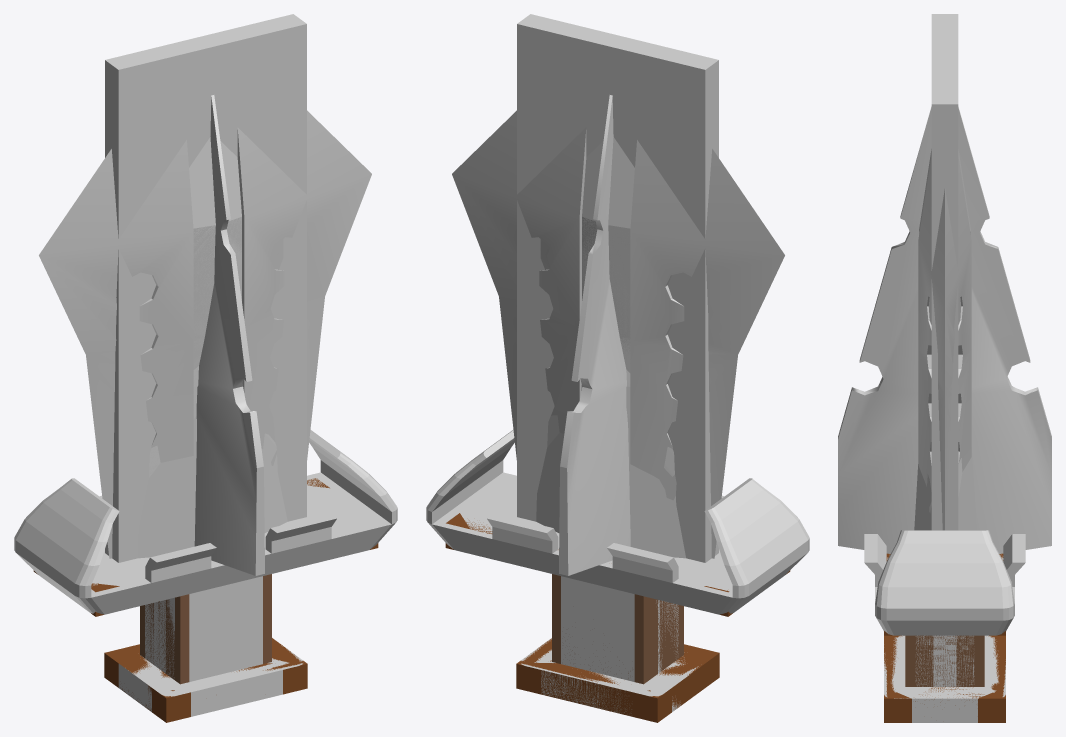
Rendered from sword_1.All.fbx.
3 renders of one model, left to right at view 1: azimuth 30°, elevation 25°; view 2: azimuth 150°, elevation 25°; view 3: azimuth 270°, elevation 25°, orthographic.
Parts seen in each view (by area): view 1: UC_3.2, UC_2.0_BASIC, UC_2.2, Kabza_4, Kabza_3, Kabza_2, Kabza_1, UC_2.0, UC_3.0, UC_3.1; view 2: UC_3.2, UC_2.0_BASIC, Kabza_4, UC_2.2, Kabza_1, Kabza_3, UC_2.0, UC_3.0, Kabza_2, UC_3.1; view 3: UC_2.2, Kabza_4, UC_3.2, UC_2.0_BASIC, Kabza_1, Kabza_2, Kabza_3, UC_2.0, UC_3.0.
Part boxes in pixels (x1=…): UC_3.2: x1=39, y1=110, x2=371, y2=558; UC_2.0_BASIC: x1=105, y1=14, x2=306, y2=562; UC_2.2: x1=194, y1=95, x2=264, y2=575; Kabza_4: x1=14, y1=430, x2=397, y2=611; Kabza_3: x1=16, y1=473, x2=395, y2=696; Kabza_2: x1=92, y1=485, x2=363, y2=716; Kabza_1: x1=33, y1=478, x2=378, y2=722; UC_2.0: x1=112, y1=366, x2=287, y2=559; UC_3.0: x1=189, y1=137, x2=283, y2=369; UC_3.1: x1=193, y1=217, x2=283, y2=368; UC_3.2: x1=452, y1=110, x2=784, y2=558; UC_2.0_BASIC: x1=517, y1=14, x2=718, y2=562; Kabza_4: x1=426, y1=430, x2=809, y2=613; UC_2.2: x1=559, y1=95, x2=630, y2=575; Kabza_1: x1=445, y1=513, x2=790, y2=722; Kabza_3: x1=428, y1=473, x2=807, y2=696; UC_2.0: x1=536, y1=385, x2=711, y2=558; UC_3.0: x1=540, y1=137, x2=634, y2=372; Kabza_2: x1=460, y1=485, x2=724, y2=715; UC_3.1: x1=540, y1=217, x2=630, y2=371; UC_2.2: x1=838, y1=106, x2=1051, y2=553; Kabza_4: x1=864, y1=530, x2=1025, y2=635; UC_3.2: x1=918, y1=157, x2=971, y2=530; UC_2.0_BASIC: x1=931, y1=14, x2=958, y2=530; Kabza_1: x1=884, y1=553, x2=1005, y2=722; Kabza_2: x1=891, y1=635, x2=999, y2=722; Kabza_3: x1=876, y1=618, x2=1013, y2=698; UC_2.0: x1=914, y1=447, x2=976, y2=530; UC_3.0: x1=919, y1=149, x2=970, y2=324.
Size of the model in its own units: 142 by 268 by 80.
